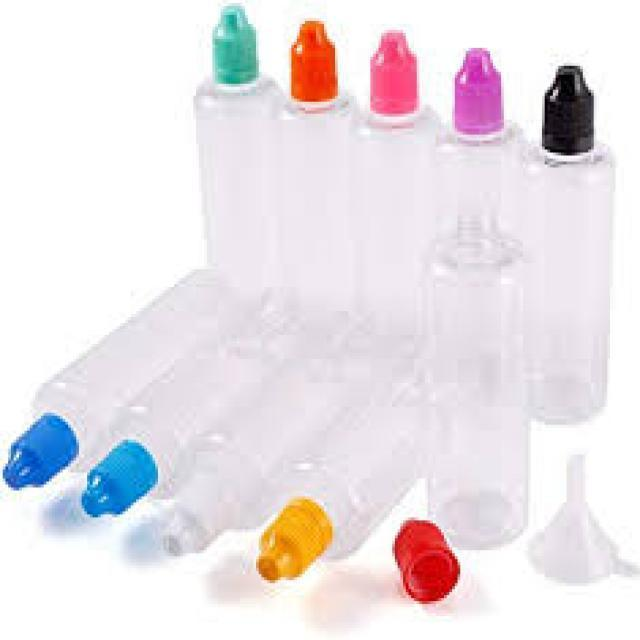Plastic: (160, 319, 416, 562), (2, 268, 238, 491), (82, 314, 294, 522), (256, 341, 429, 577), (418, 205, 532, 551), (514, 63, 618, 420), (360, 30, 448, 336), (191, 8, 283, 294), (276, 21, 362, 318), (526, 446, 638, 589), (386, 514, 464, 602)
